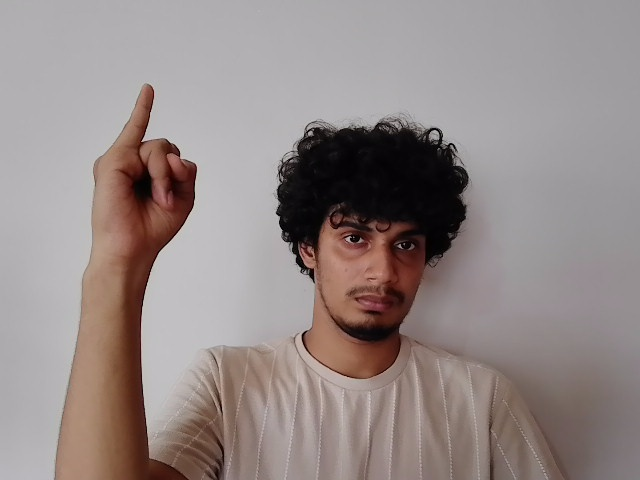bad: (91, 84, 197, 262)
